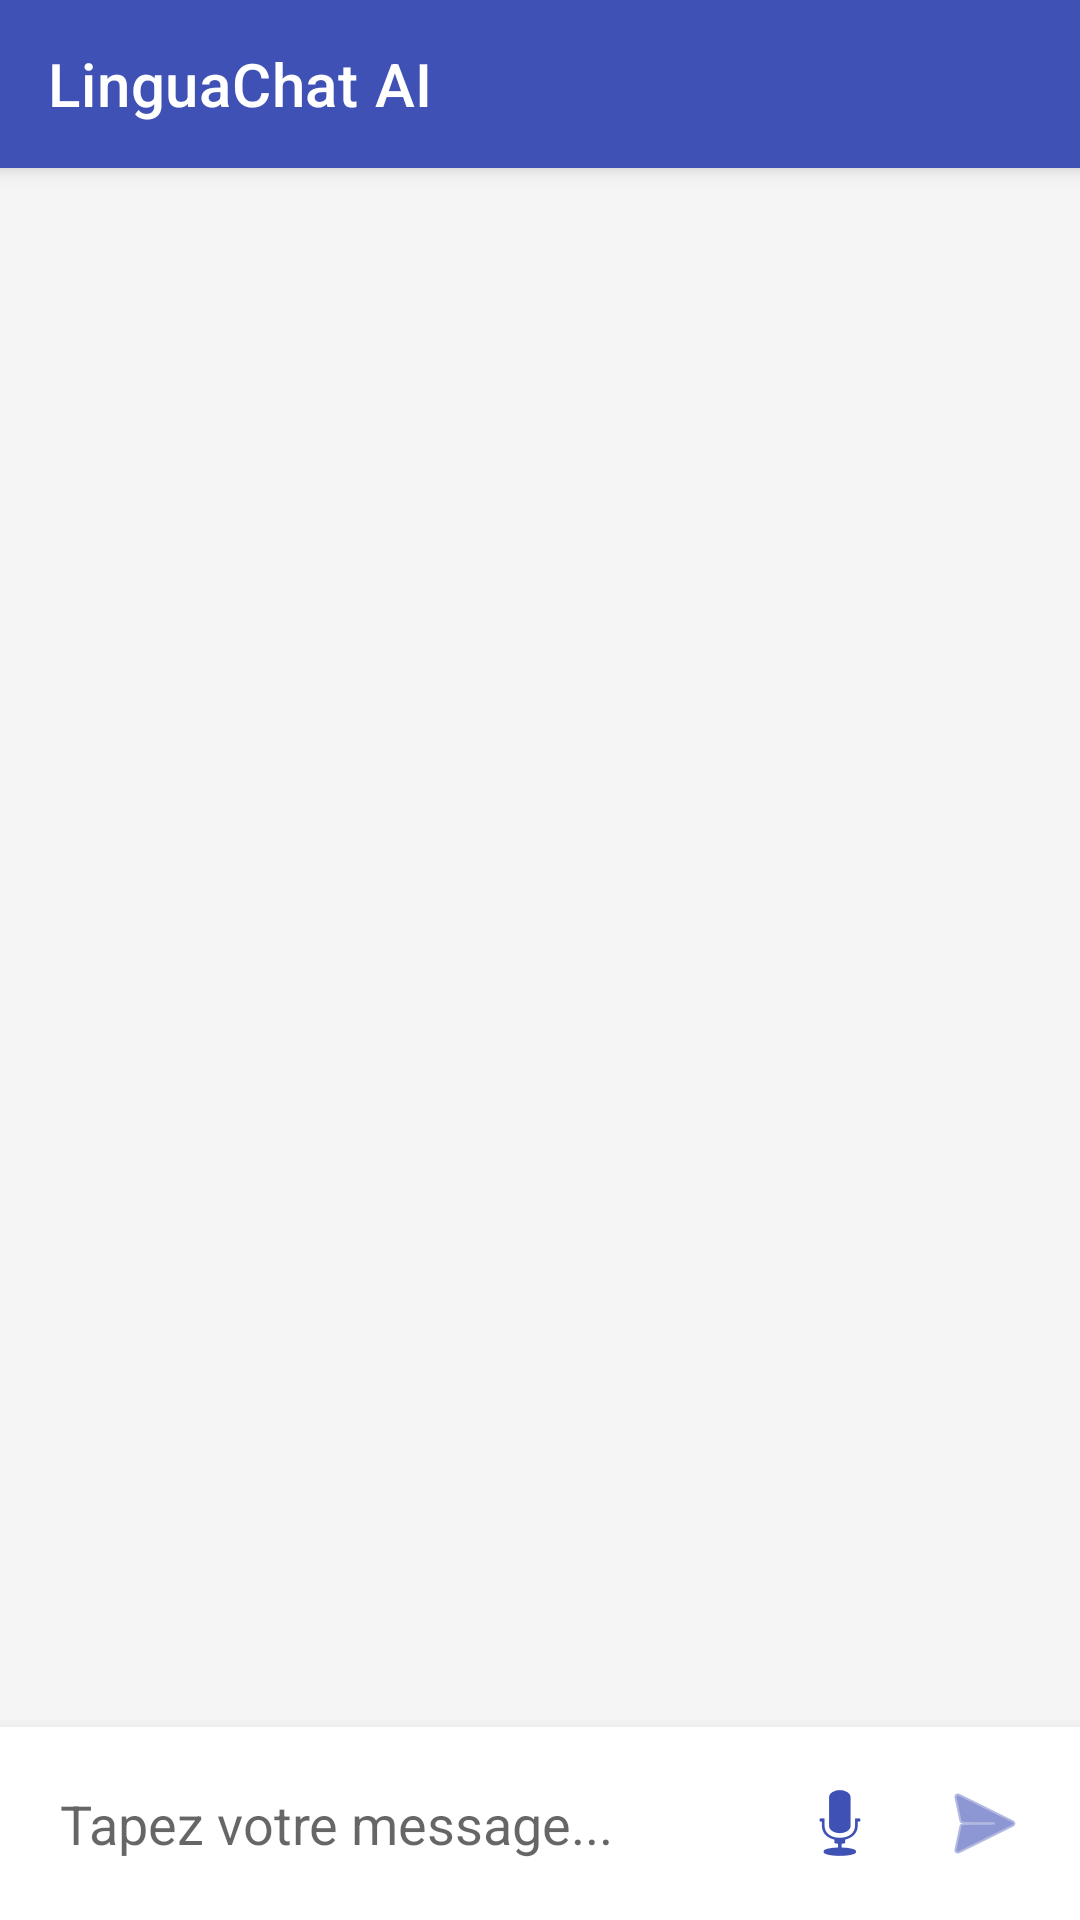

Icons on this 1080w x 1920h Android screen, each with the point to tap as point (x, y):
Envoyer: point (985, 1823)
Micro: point (840, 1823)
